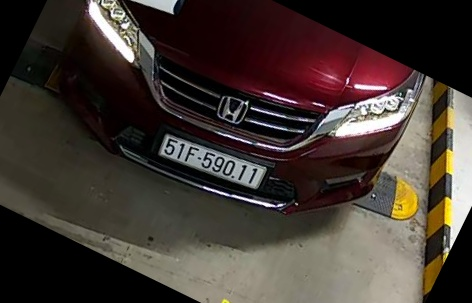plate: (149, 124, 266, 197)
